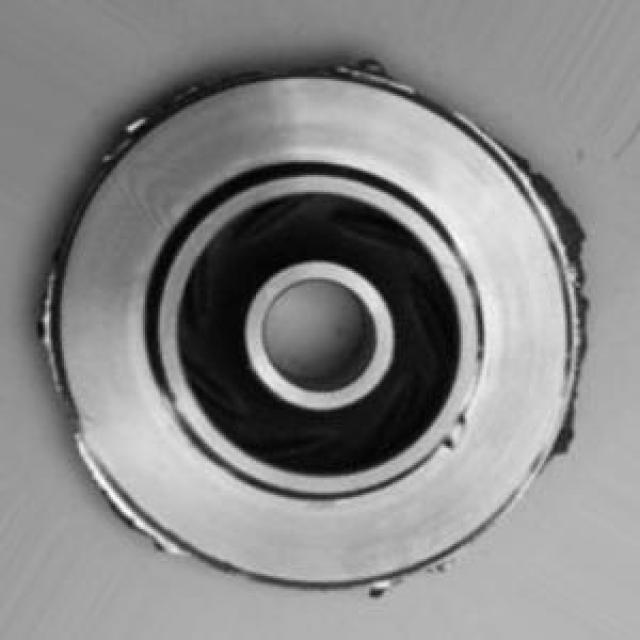Defect: (340, 47, 408, 95), (540, 174, 582, 248)
